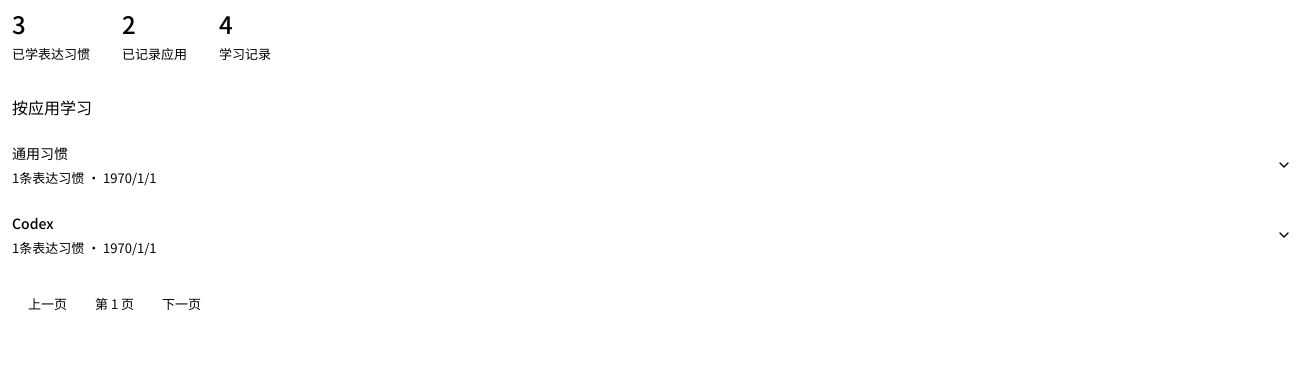
personalization read projections › drops details from a page that has been left
Click the button "Codex 1条表达习惯 · 1970/1/1" at (33, 223), box [12,200,1292,270]
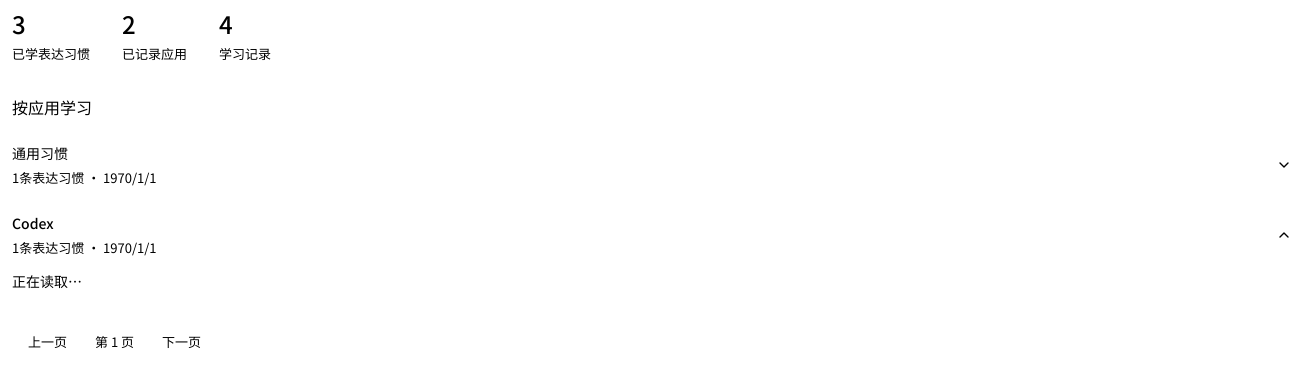
Click the button "下一页" at (182, 342), box [146,324,217,360]
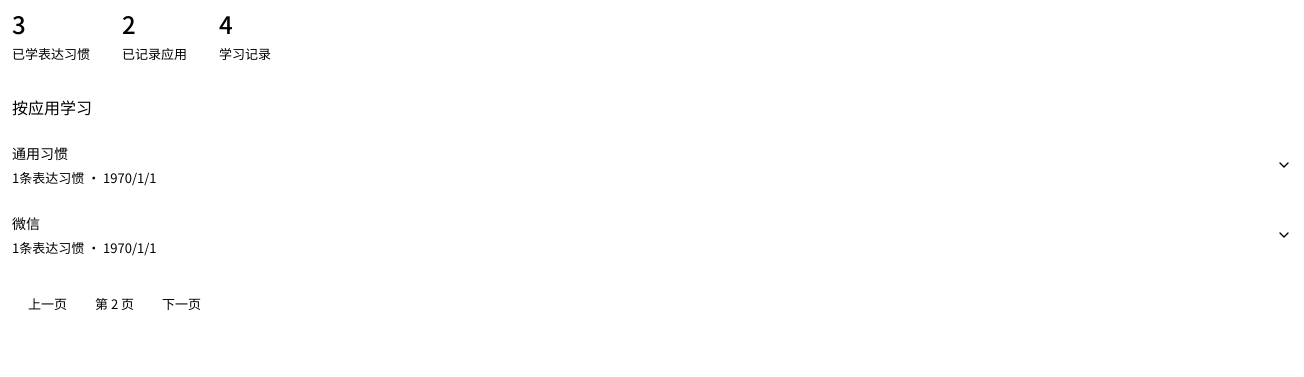
Now the button "微信 1条表达习惯 · 1970/1/1" is shown, box [12,200,1292,270]
Now the button "Codex" is gone
